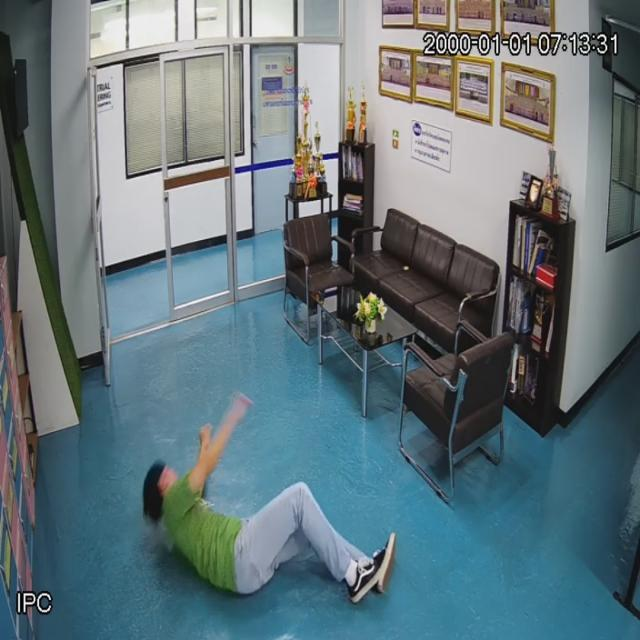fall: (144, 448, 392, 607)
